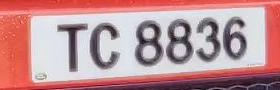3: (194, 12, 224, 68)
6: (221, 10, 252, 66)
8: (132, 15, 166, 73), (163, 13, 197, 71)
C: (84, 17, 126, 76)
T: (52, 17, 91, 78)
